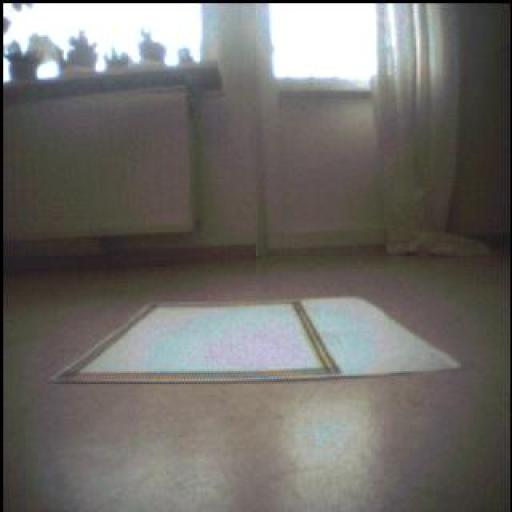Pad: (51, 295, 459, 378)
